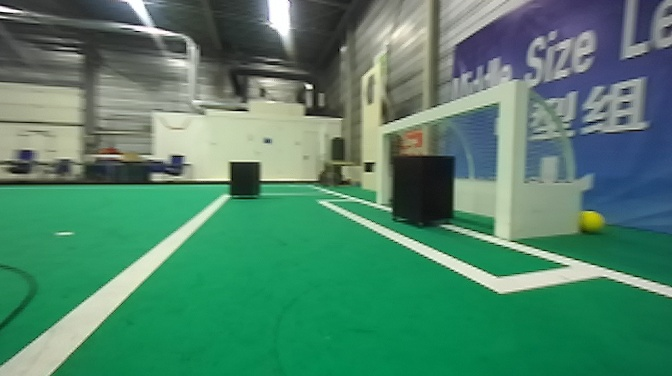ball: (580, 206, 606, 239)
goalpost: (495, 83, 527, 243), (373, 121, 388, 207)
